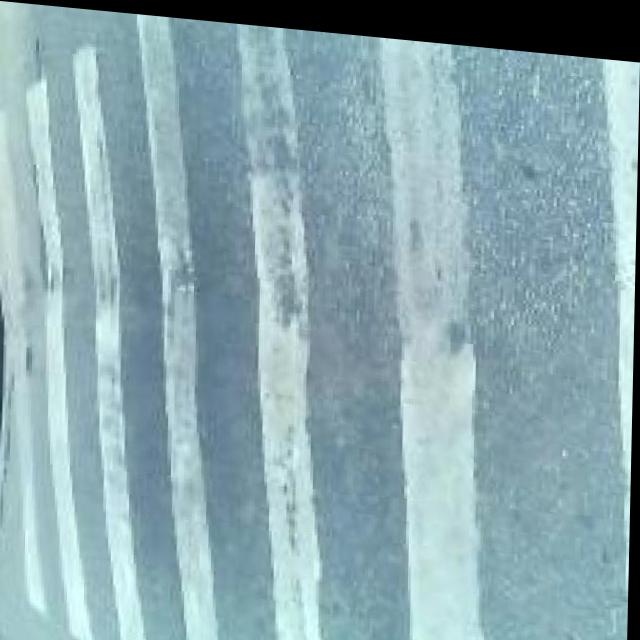zebra: (12, 2, 640, 640)
